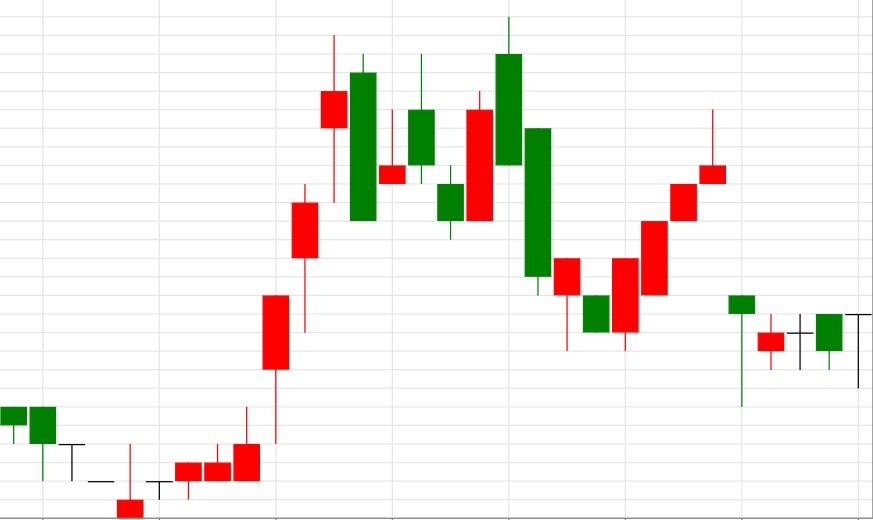bullish_engulfing_rise: (495, 16, 640, 351)
inverse_hammer_rise: (0, 406, 144, 519)
